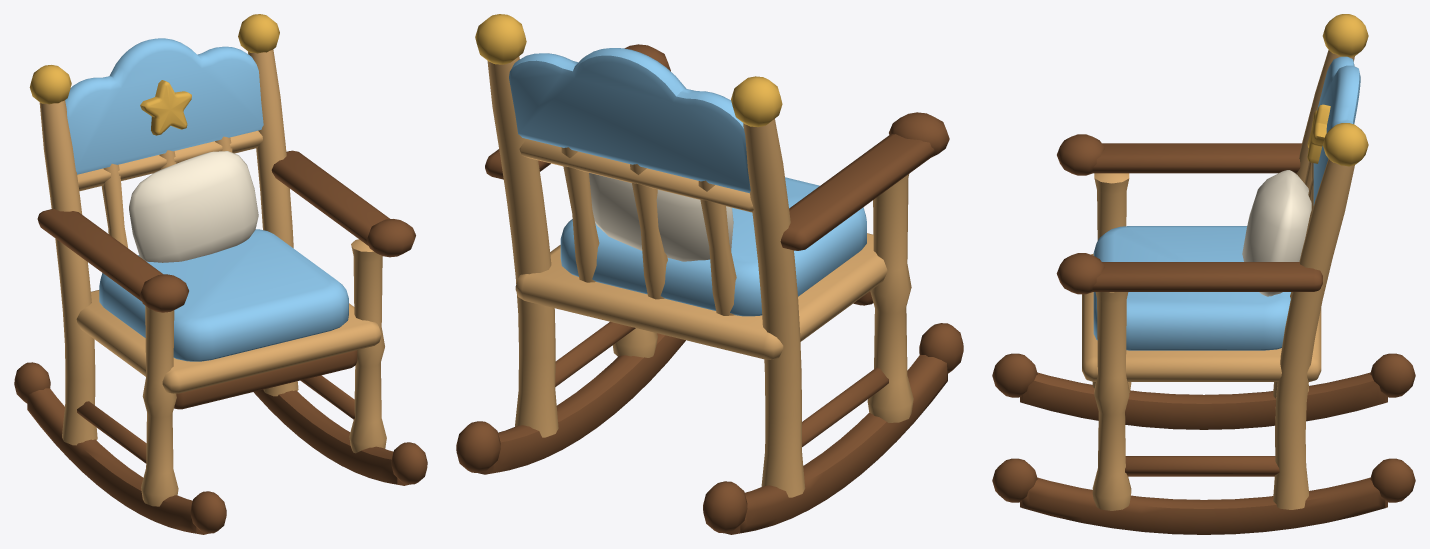
File: ShopRockingChair.fbx
The picture shows the model from 3 angles, left to right: view 1: azimuth 30°, elevation 25°; view 2: azimuth 150°, elevation 25°; view 3: azimuth 270°, elevation 25°; orthographic projection. The views are drawn at different scales.
Visible parts, largest first — view 1: ShopRockingChair; view 2: ShopRockingChair; view 3: ShopRockingChair.
Boxes of the visible parts, bbox=[...] form: ShopRockingChair: bbox=[14, 14, 427, 534]; ShopRockingChair: bbox=[456, 14, 963, 534]; ShopRockingChair: bbox=[992, 14, 1415, 534].
Bounding box in the file's own units: 0.7241 × 0.983 × 0.92.
